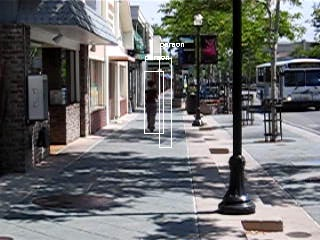person: (144, 81, 161, 134), (143, 81, 160, 134), (145, 81, 162, 134), (144, 80, 161, 133), (144, 82, 161, 135)
target_negative: (56, 102, 246, 185), (245, 101, 312, 180), (261, 7, 298, 116), (42, 168, 308, 176), (210, 85, 243, 141), (138, 90, 161, 156)
